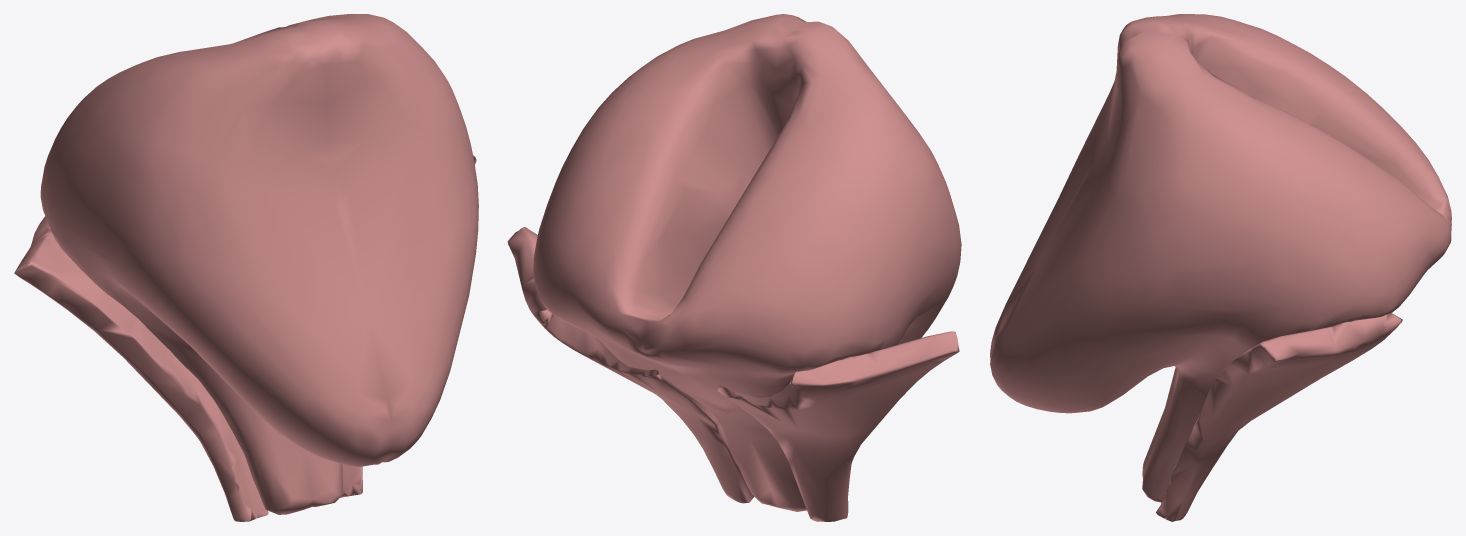
Rendered from Hypothalamus.fbx.
3 renders of one model, left to right at view 1: azimuth 30°, elevation 25°; view 2: azimuth 150°, elevation 25°; view 3: azimuth 270°, elevation 25°, orthographic. The views are drawn at different scales.
Visible parts, largest first — view 1: Hypothalamus.001; view 2: Hypothalamus.001; view 3: Hypothalamus.001.
Part boxes in pixels (left/top/right/bottom): Hypothalamus.001: left=14, top=14, right=478, bottom=521; Hypothalamus.001: left=507, top=14, right=961, bottom=521; Hypothalamus.001: left=990, top=14, right=1451, bottom=521.
Bounding box in the file's own units: 1.92 × 1.74 × 1.94.
